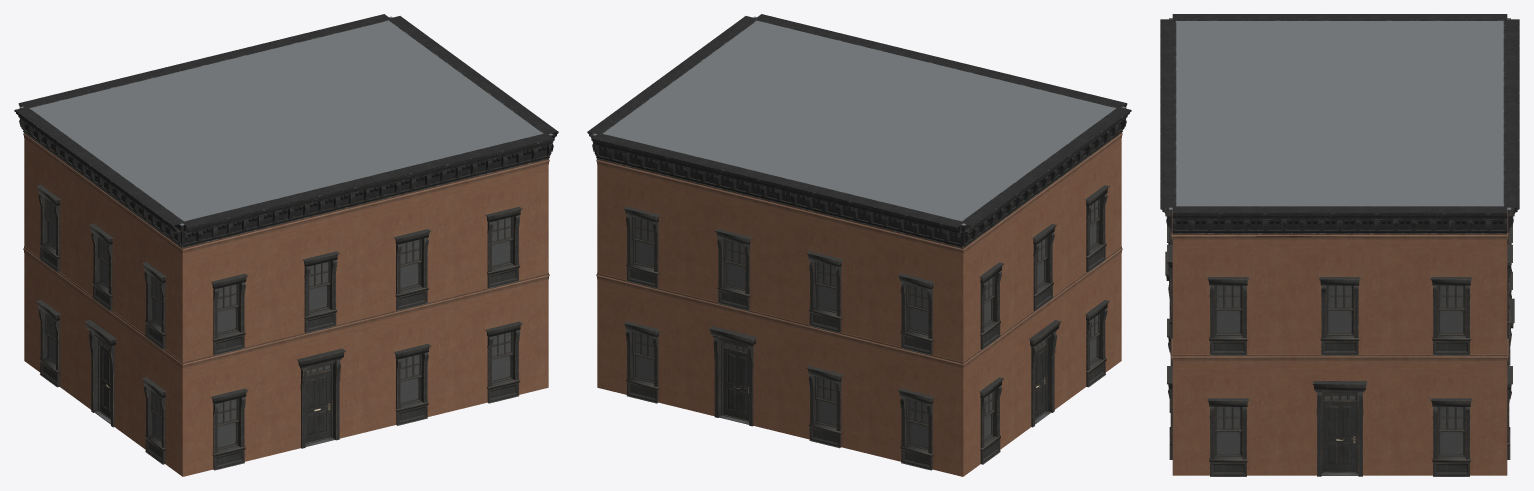
File: italian-urban-facade.glb
3 renders of one model, left to right at view 1: azimuth 30°, elevation 25°; view 2: azimuth 150°, elevation 25°; view 3: azimuth 270°, elevation 25°, orthographic. The views are drawn at different scales.
Parts seen in each view (by area): view 1: wall_window_centered_small_01, Solid roof, window_centered_small_01, crown_standard_standard_01, cornice_standard_standard_01; view 2: wall_window_centered_small_01, Solid roof, window_centered_small_01, crown_standard_standard_01, cornice_standard_standard_01; view 3: Solid roof, wall_window_centered_small_01, window_centered_small_01, crown_standard_standard_01, cornice_standard_standard_01.
Part boxes in pixels (left/top/right/bottom): wall_window_centered_small_01: left=24, top=138, right=548, bottom=476; Solid roof: left=20, top=16, right=552, bottom=225; window_centered_small_01: left=36, top=185, right=522, bottom=470; crown_standard_standard_01: left=14, top=14, right=558, bottom=247; cornice_standard_standard_01: left=23, top=133, right=549, bottom=368; wall_window_centered_small_01: left=597, top=138, right=1121, bottom=476; Solid roof: left=593, top=16, right=1125, bottom=225; window_centered_small_01: left=623, top=185, right=1109, bottom=470; crown_standard_standard_01: left=587, top=14, right=1131, bottom=247; cornice_standard_standard_01: left=596, top=133, right=1122, bottom=368; Solid roof: left=1169, top=18, right=1510, bottom=209; wall_window_centered_small_01: left=1172, top=240, right=1507, bottom=475; window_centered_small_01: left=1165, top=225, right=1514, bottom=476; crown_standard_standard_01: left=1160, top=14, right=1519, bottom=233; cornice_standard_standard_01: left=1171, top=210, right=1508, bottom=361.
Bounding box in the file's own units: 12.66 × 7.95 × 9.66.
Materials: 6 (5 with a texture image).
